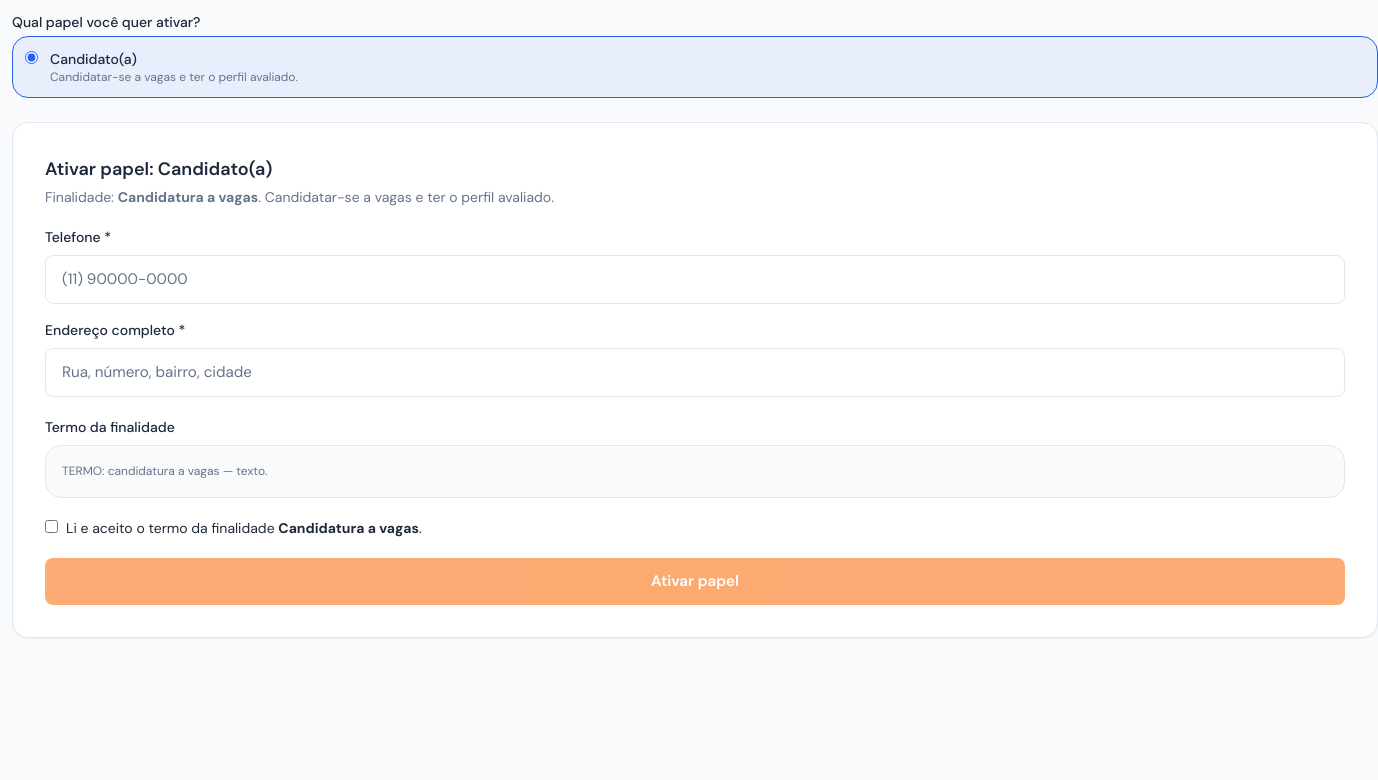
Scenario: ActivateRoleForm › action falha → exibe a mensagem de erro e não redireciona
The image size is (1378, 780).
In the field labelled "Telefone *": (695, 279) top-left (45, 255), bottom-right (1345, 304), type "11999990000"
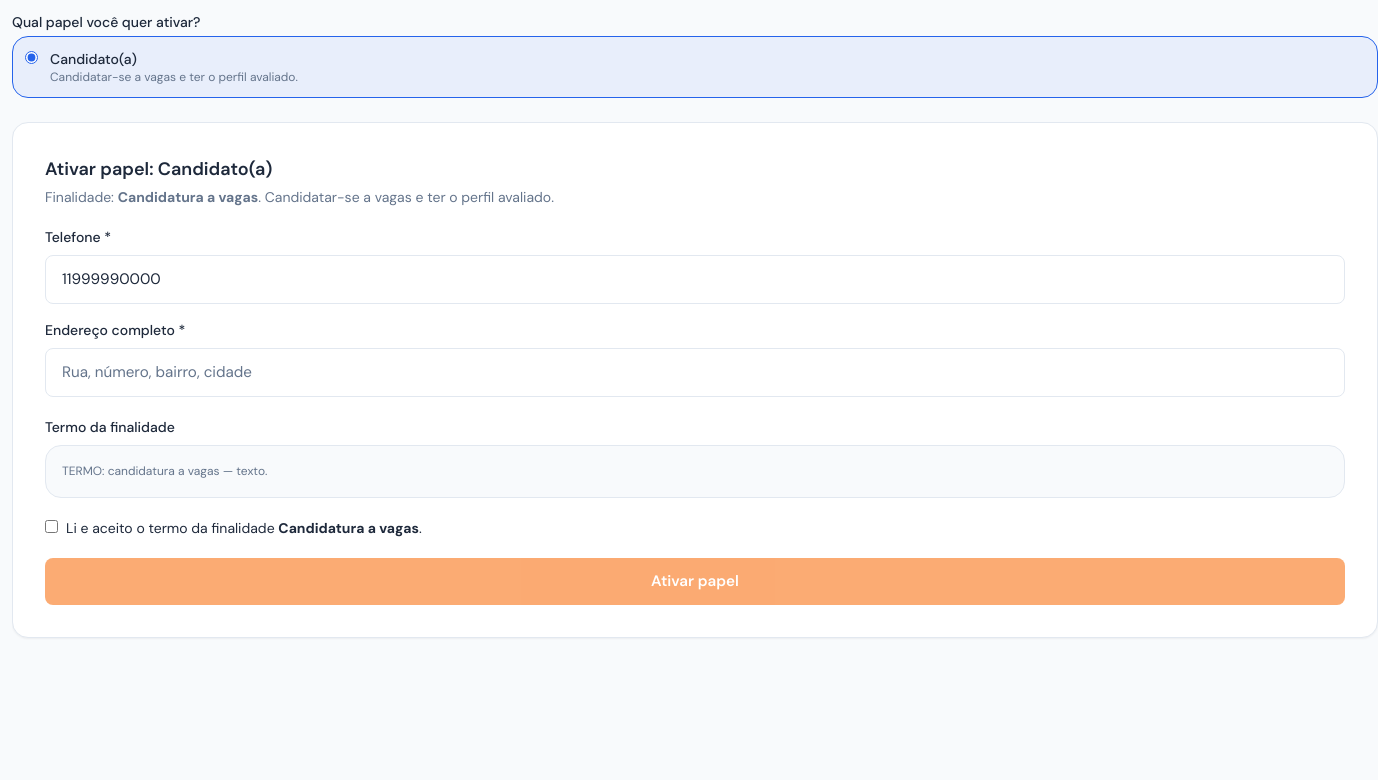
In the field labelled "Endereço completo *": (695, 372) top-left (45, 348), bottom-right (1345, 397), type "Rua X, 123"
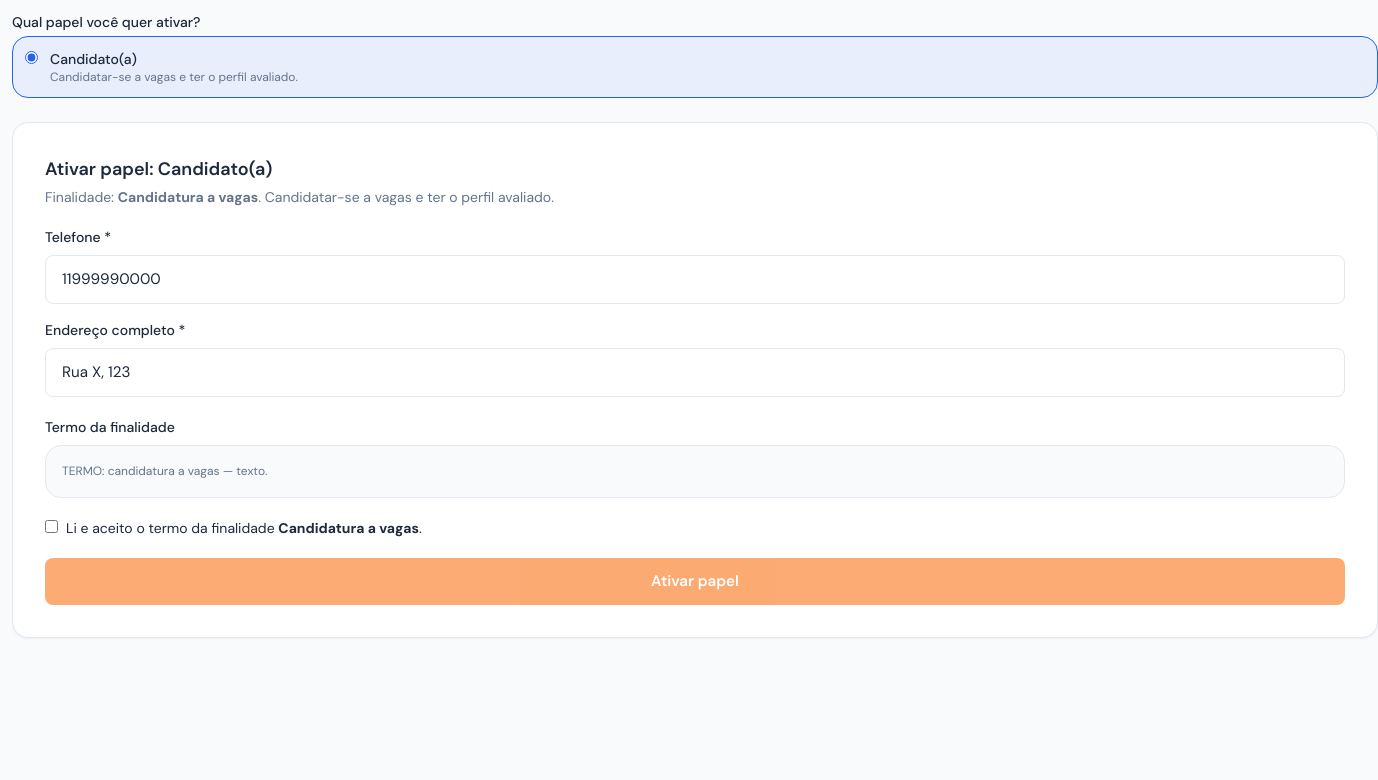
Click the checkbox: (52, 527) top-left (45, 520), bottom-right (58, 533)
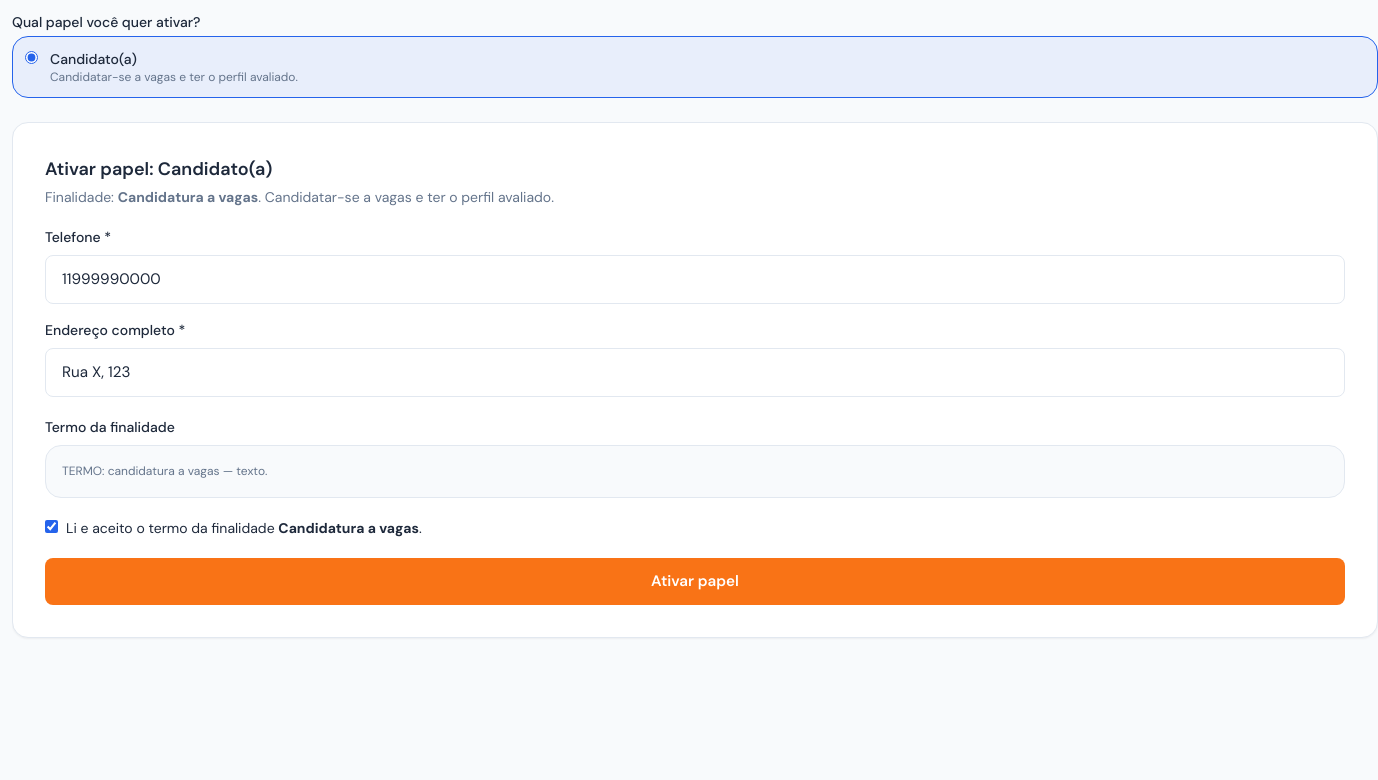
Click the button "Ativar papel": (695, 582) top-left (45, 558), bottom-right (1345, 605)
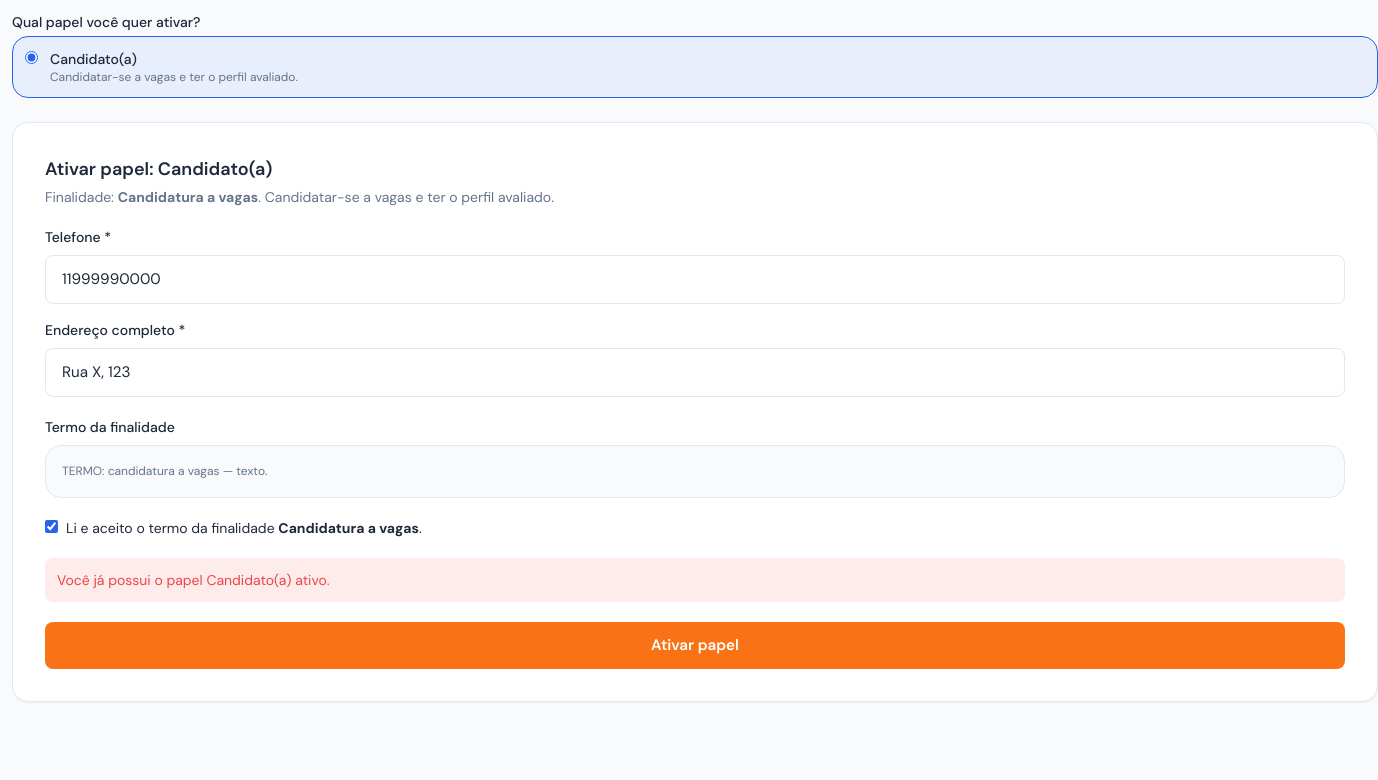
Check: the text "Você já possui o papel Candidato(a) ativo." is shown, box top-left (45, 558), bottom-right (1345, 602)
